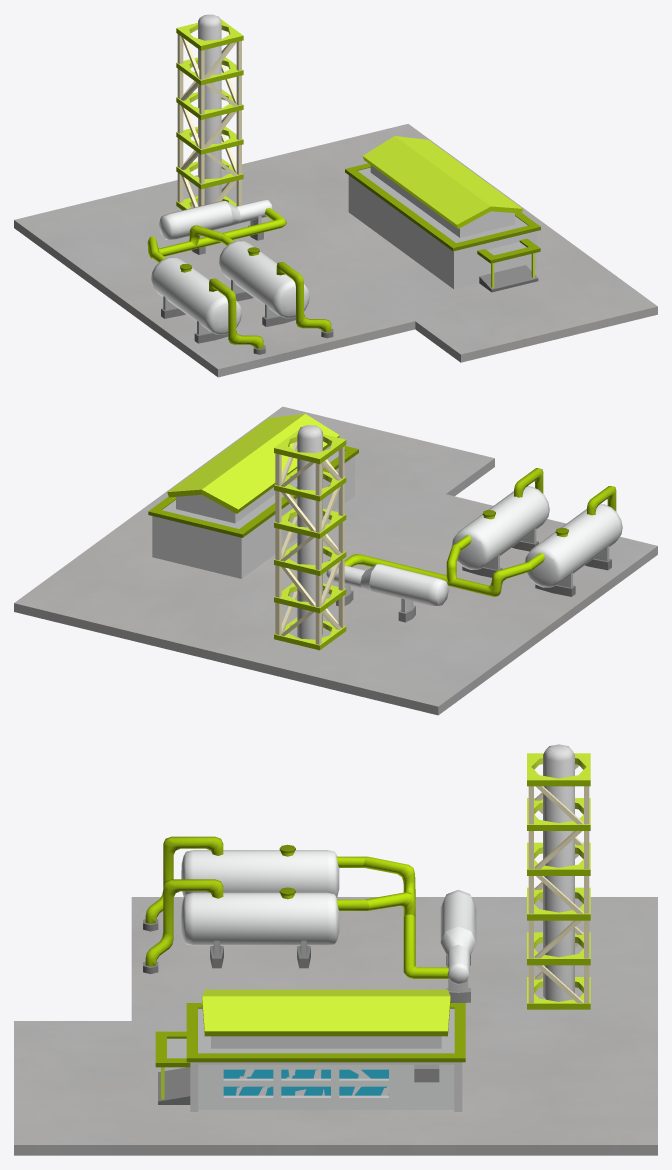
The model's file is build1.fbx.
3 views of the same model, one above another, from view 1: azimuth 30°, elevation 25°; view 2: azimuth 150°, elevation 25°; view 3: azimuth 270°, elevation 25° (orthographic). The views are drawn at different scales.
Visible parts, largest first — view 1: gas_ground, gas_refining_01, gas_refining_06.001, gas_refining_02.001, gas_refining_03.001; view 2: gas_ground, gas_refining_01, gas_refining_06.001, gas_refining_02.001, gas_refining_03.001; view 3: gas_ground, gas_refining_01, gas_refining_06.001, gas_refining_02.001, gas_refining_03.001.
Part boxes in pixels (<box>): gas_ground: <box>14,124,657,377</box>; gas_refining_01: <box>345,136,540,292</box>; gas_refining_06.001: <box>176,14,243,210</box>; gas_refining_02.001: <box>147,200,286,354</box>; gas_refining_03.001: <box>189,225,333,338</box>; gas_ground: <box>14,406,657,715</box>; gas_refining_01: <box>148,413,358,578</box>; gas_refining_06.001: <box>274,425,346,650</box>; gas_refining_02.001: <box>326,486,622,622</box>; gas_refining_03.001: <box>446,468,549,583</box>; gas_ground: <box>14,897,657,1155</box>; gas_refining_01: <box>155,989,465,1111</box>; gas_refining_06.001: <box>527,744,590,1009</box>; gas_refining_02.001: <box>143,836,476,1002</box>; gas_refining_03.001: <box>143,879,415,974</box>.
Bounding box in the file's own units: 135 × 59.71 × 123.
